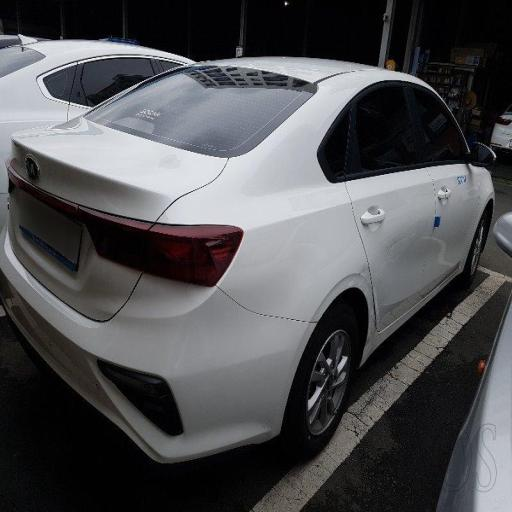dent: (31, 197, 129, 304)
scratch: (395, 157, 485, 296)
